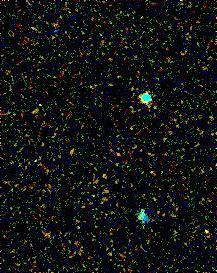star: (193, 220, 217, 250)
